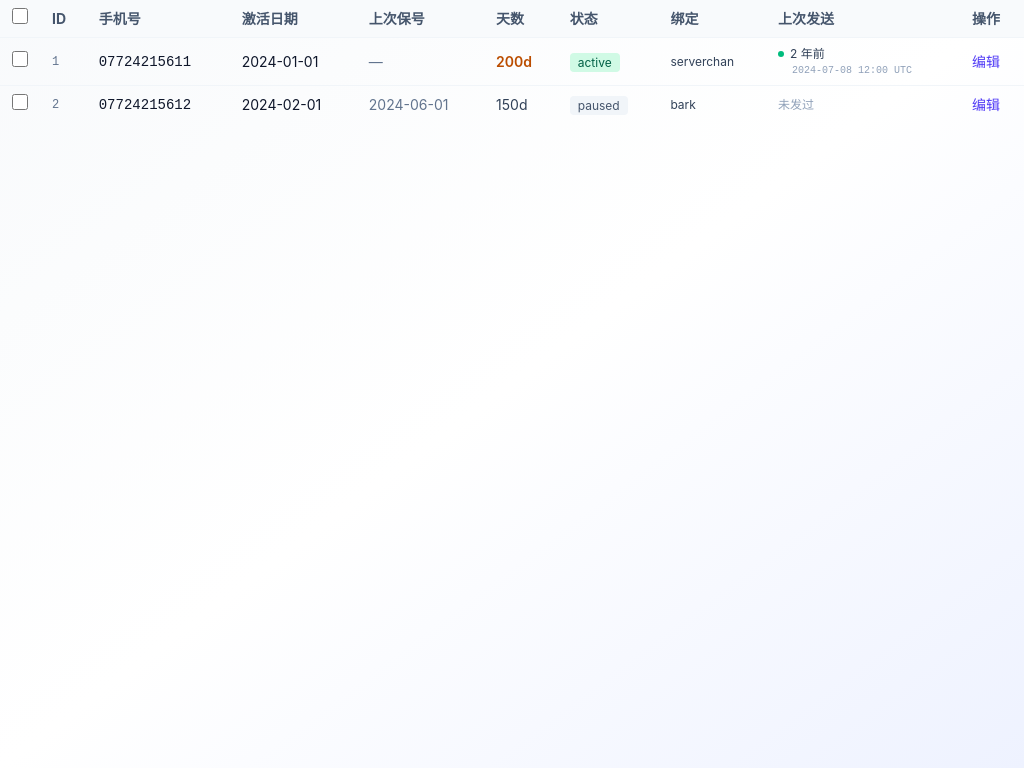
<SimsBulkTable /> › 全选 + 批量删除 → 弹 ConfirmModal → 确认后调 batch + 显示 success
This screenshot has width=1024, height=768.
Click the checkbox named "全选当前页" at (20, 16), box [12,8,28,24]
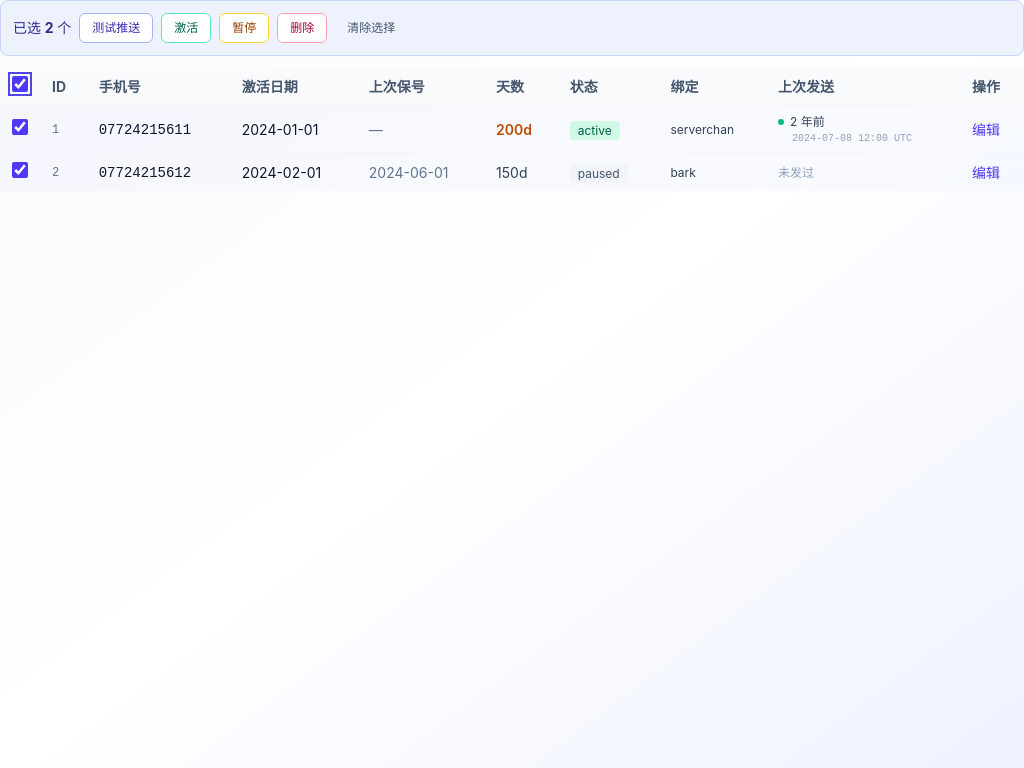
Click the button "删除" at (302, 28), box [277,13,327,43]
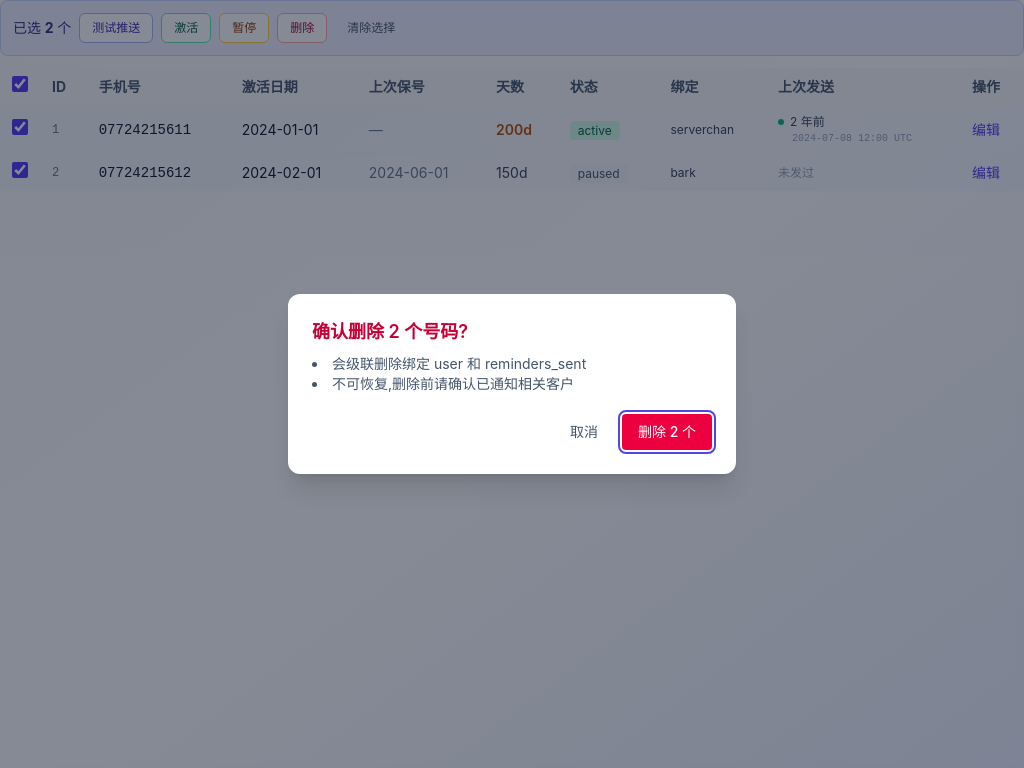
Click the button "删除 2 个" at (667, 432), box [622,414,712,450]
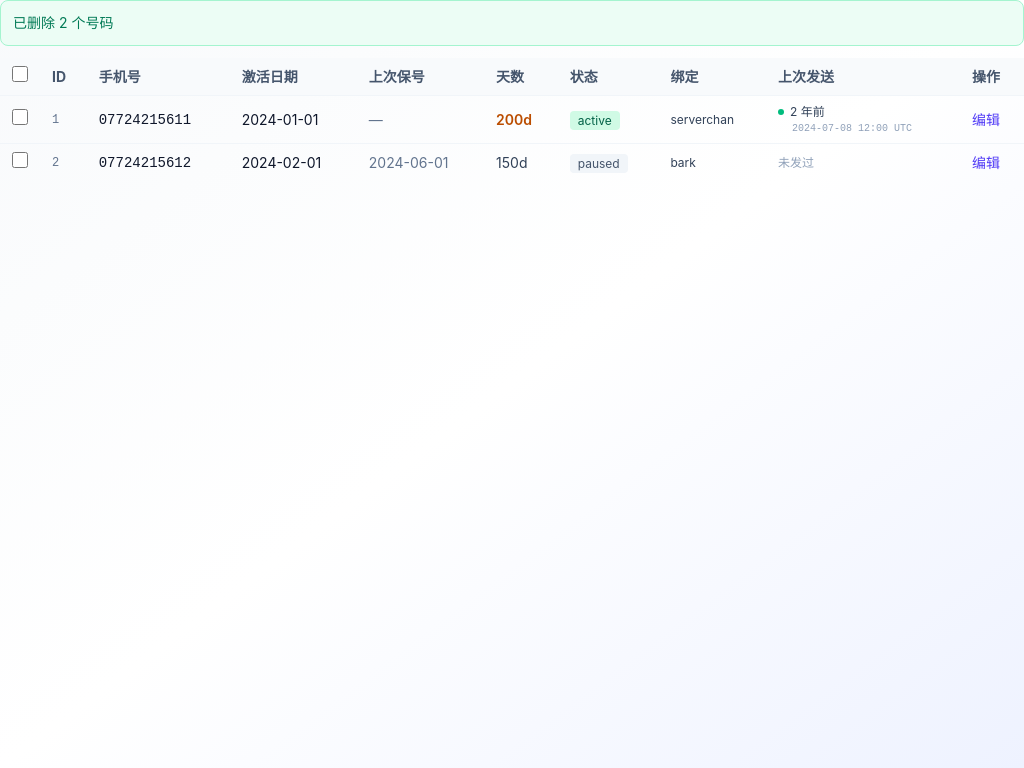
Expected: the text "已删除 2 个号码" is shown, [0,0,1023,46]
